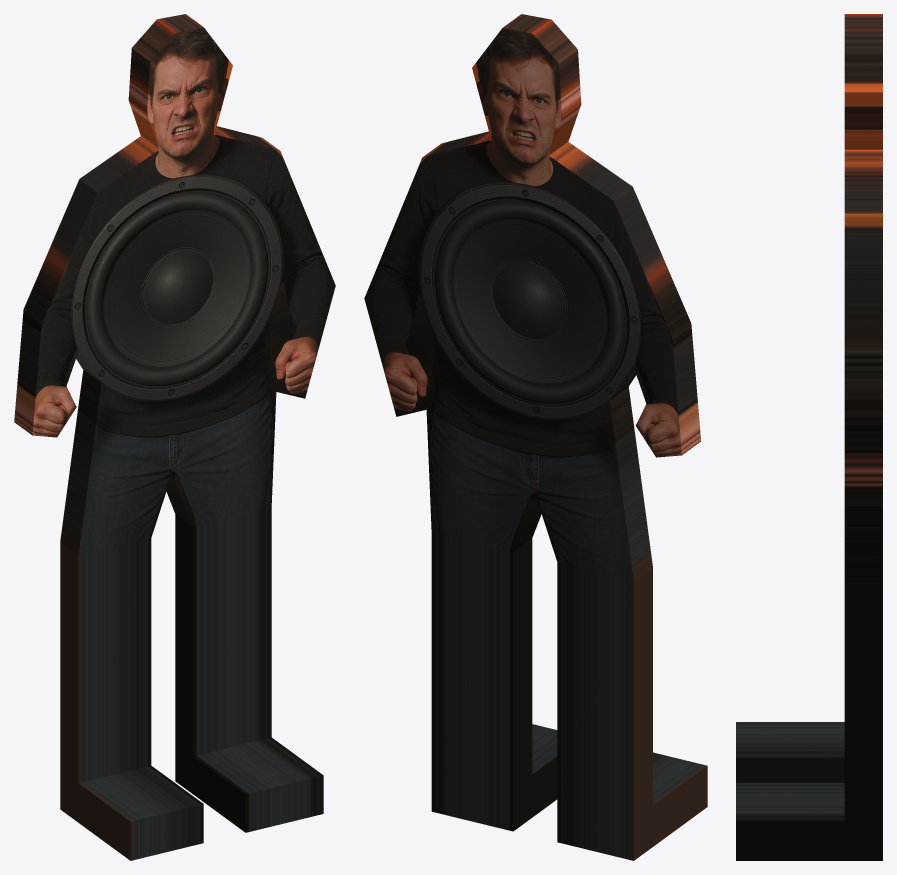
The model's file is speakerman1.glb.
3 renders of one model, left to right at view 1: azimuth 30°, elevation 25°; view 2: azimuth 150°, elevation 25°; view 3: azimuth 270°, elevation 25°, orthographic. The views are drawn at different scales.
Parts seen in each view (by area): view 1: Screenshot 2025-09-27 163145; view 2: Screenshot 2025-09-27 163145; view 3: Screenshot 2025-09-27 163145.
Part boxes in pixels (left/top/right/bottom): Screenshot 2025-09-27 163145: left=14, top=14, right=335, bottom=860; Screenshot 2025-09-27 163145: left=364, top=14, right=707, bottom=860; Screenshot 2025-09-27 163145: left=736, top=14, right=882, bottom=860.
Bounding box in the file's own units: 0.5582 × 1.35 × 0.2246.
1 material, 1 textured.
